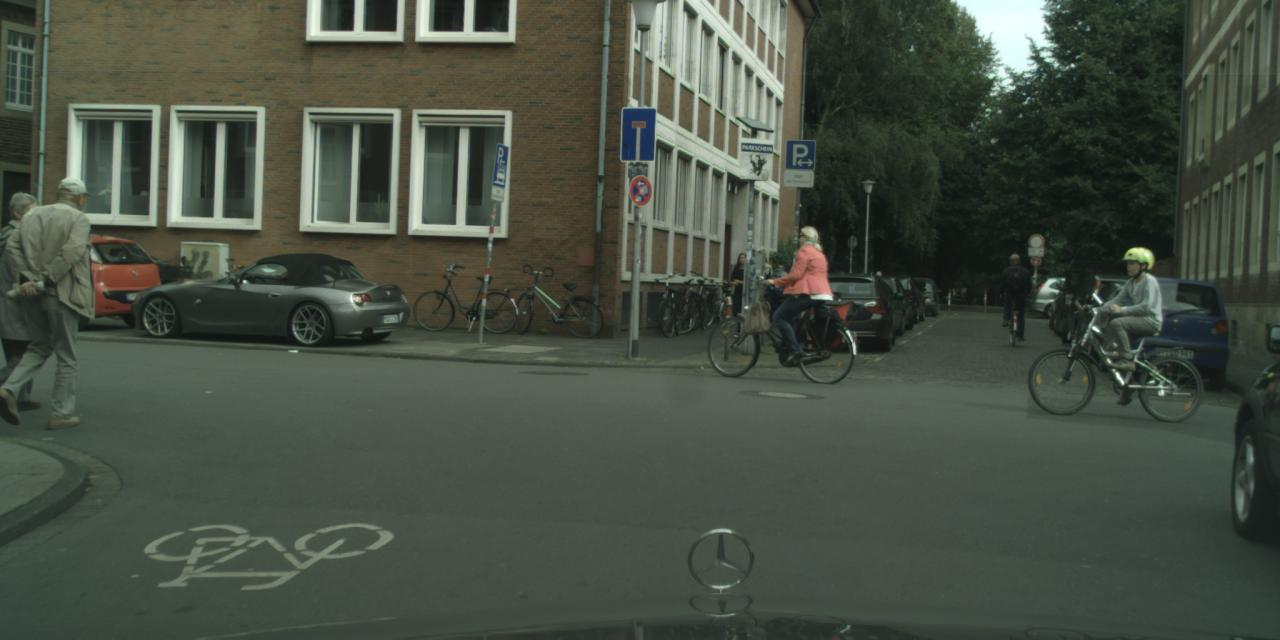ped: (4, 175, 105, 424), (0, 191, 60, 405), (1104, 247, 1160, 381), (774, 226, 827, 356), (725, 253, 759, 335), (998, 253, 1029, 329), (738, 246, 767, 319), (766, 264, 788, 322), (868, 271, 884, 308)
